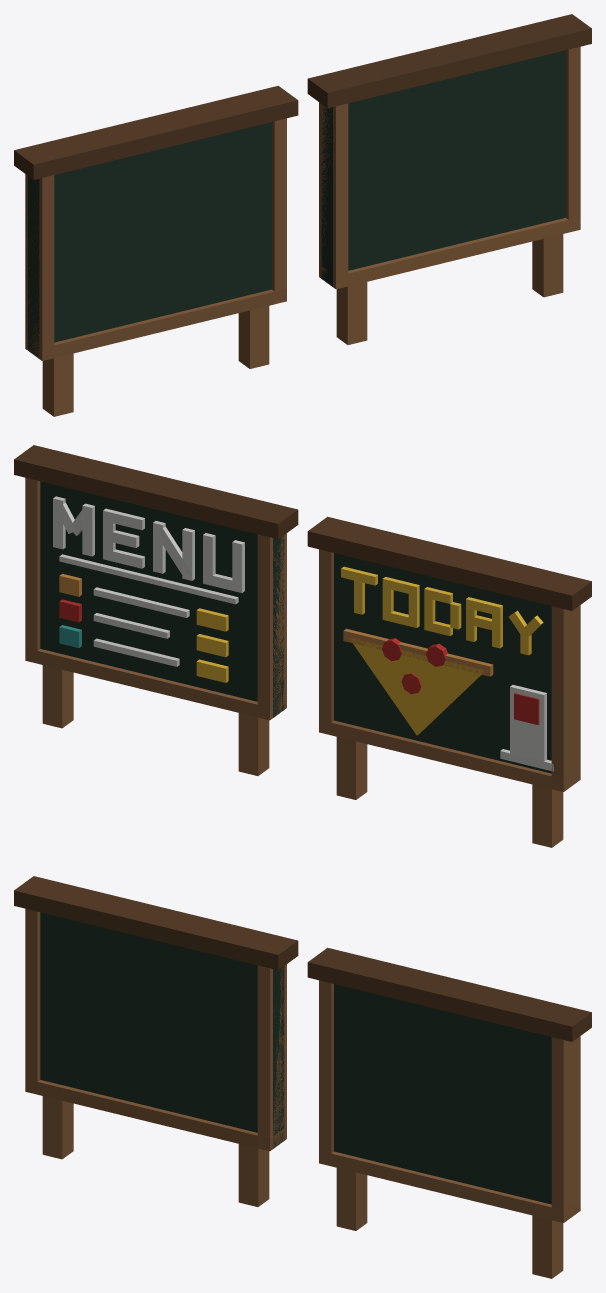
Rendered from Decor_FoodTruck_Menus.fbx.
3 renders of one model, top to bottom at view 1: azimuth 30°, elevation 25°; view 2: azimuth 150°, elevation 25°; view 3: azimuth 330°, elevation 25°, orthographic.
Parts seen in each view (by area): view 1: Menus_Body; view 2: Menus_Body; view 3: Menus_Body.
Boxes of the visible parts, bbox=[...] form: Menus_Body: bbox=[14, 14, 591, 416]; Menus_Body: bbox=[14, 445, 591, 847]; Menus_Body: bbox=[14, 876, 591, 1278].
Size of the model in its own units: 11.4 by 5.1 by 0.7.
